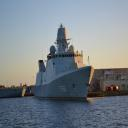Fragata: (31, 23, 97, 101)
